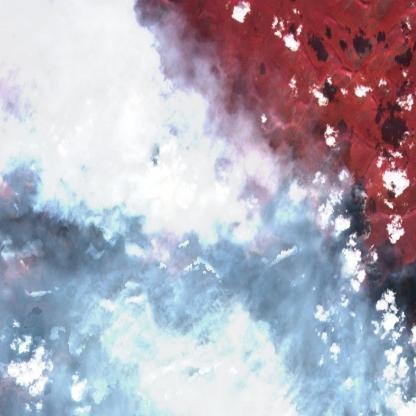fire: (0, 104, 416, 360)
